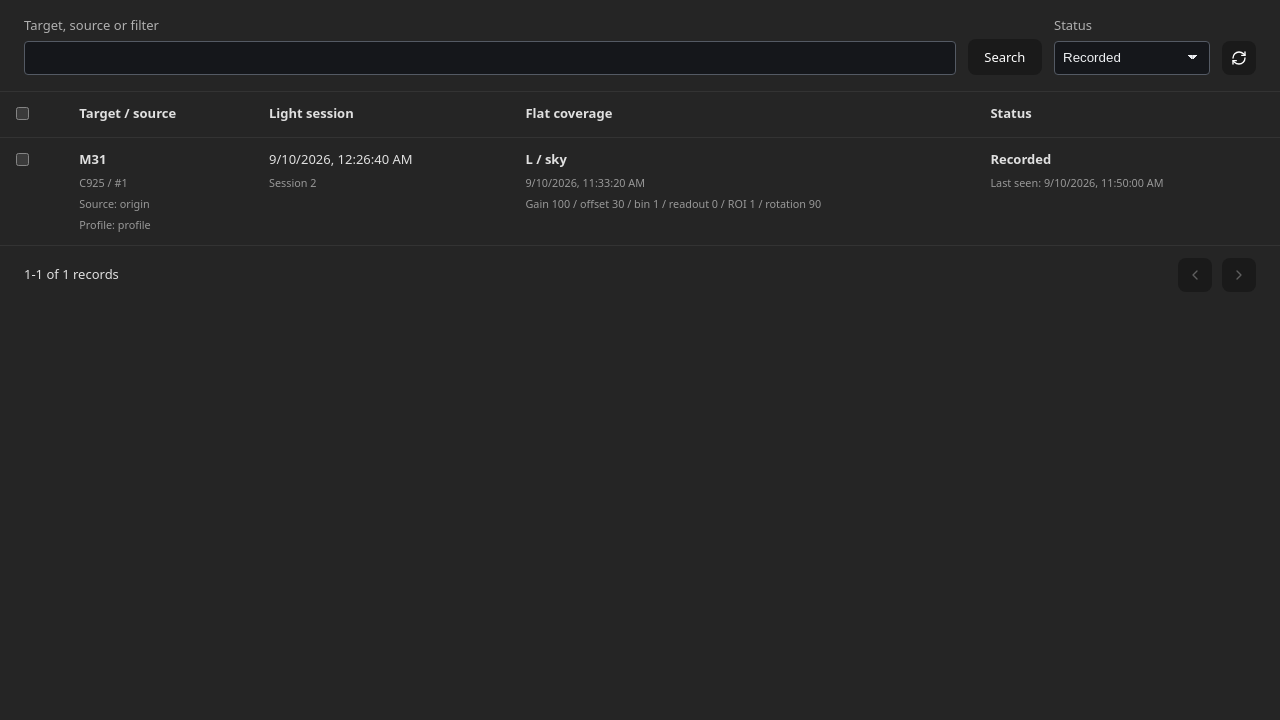
Test: scheduler flat coverage › does not submit a stale selected row after refresh changes its status
The image size is (1280, 720).
Step 1. Click the checkbox named "Select coverage 1 for M31" → {"x": 22, "y": 160}, box x1=16 y1=153 x2=29 y2=166
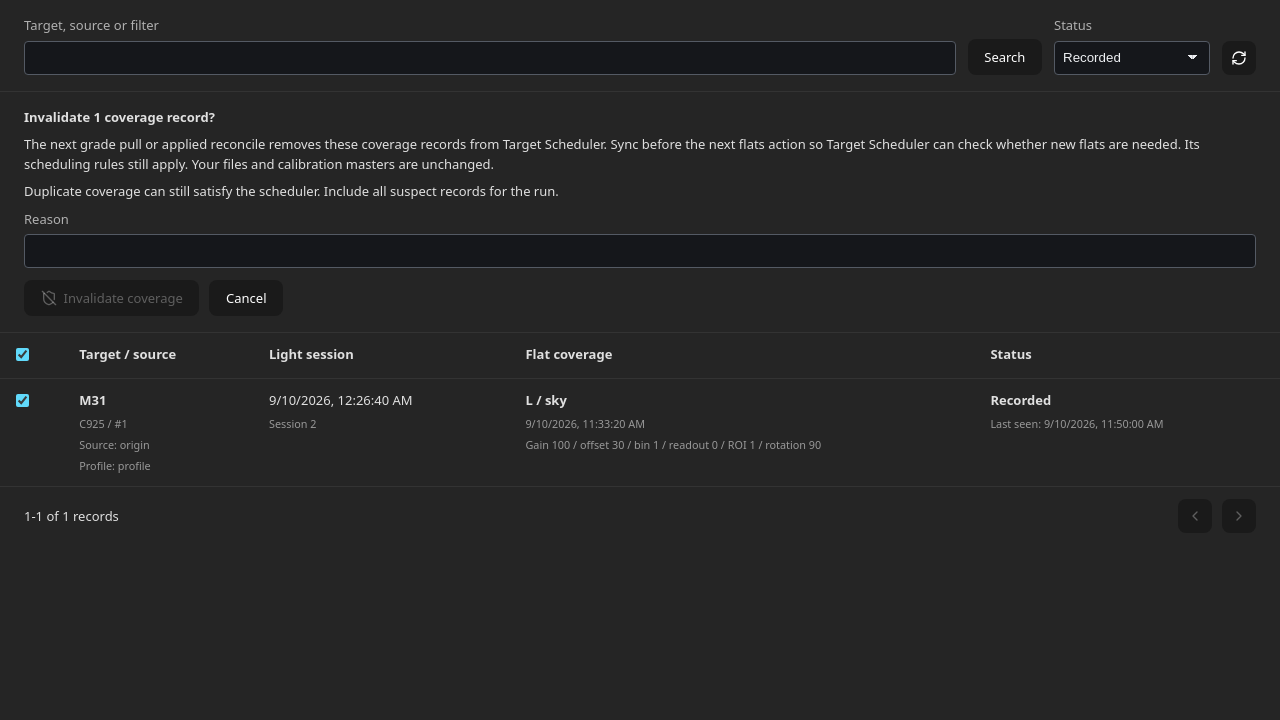
Step 2. Click the button named "Refresh coverage" → {"x": 1239, "y": 58}, box x1=1222 y1=40 x2=1256 y2=74
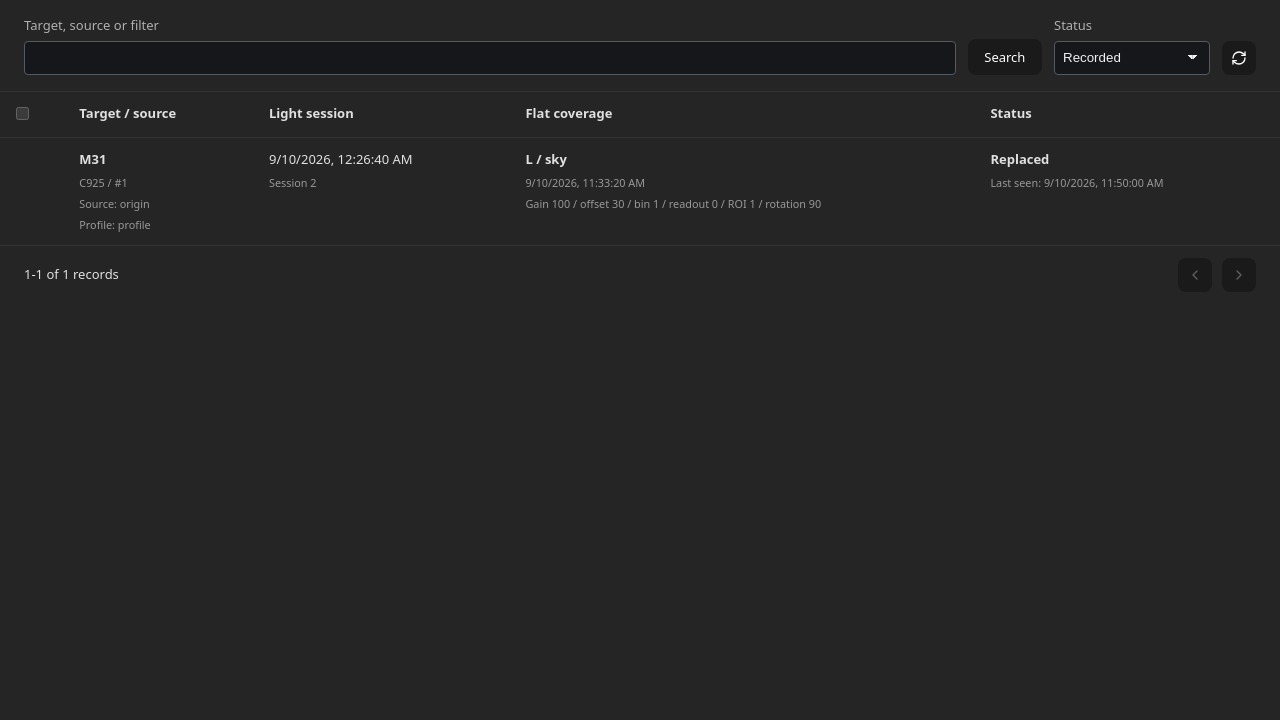
Now the button "Invalidate coverage" is gone
